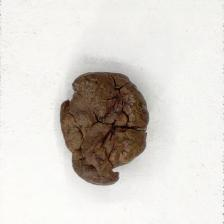NG: (60, 72, 148, 184)
